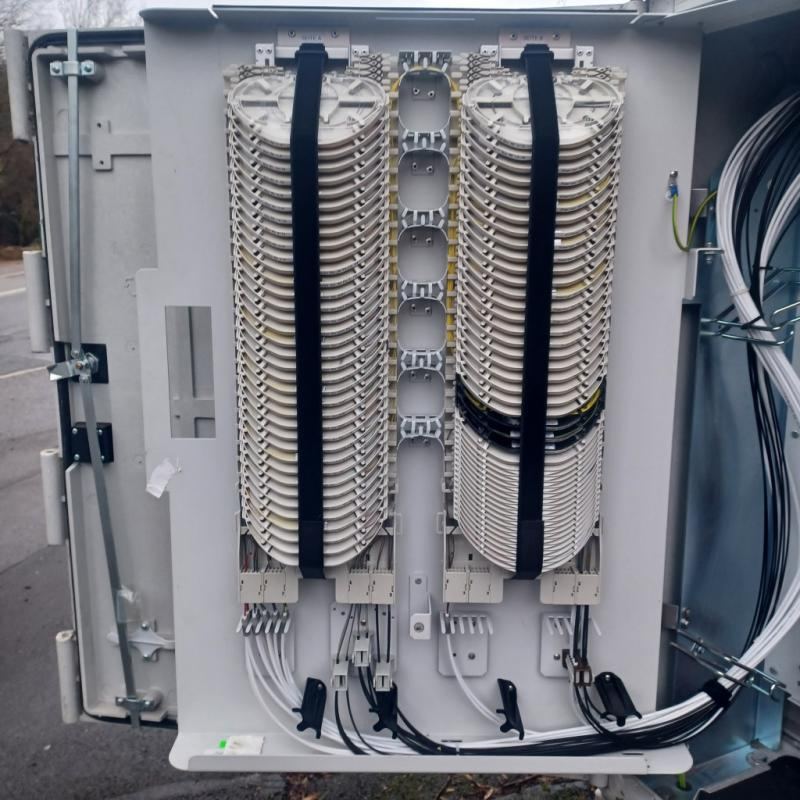NT-Gehause: (7, 5, 800, 772)
Spleiskassetten: (218, 36, 411, 663), (443, 39, 650, 619)
